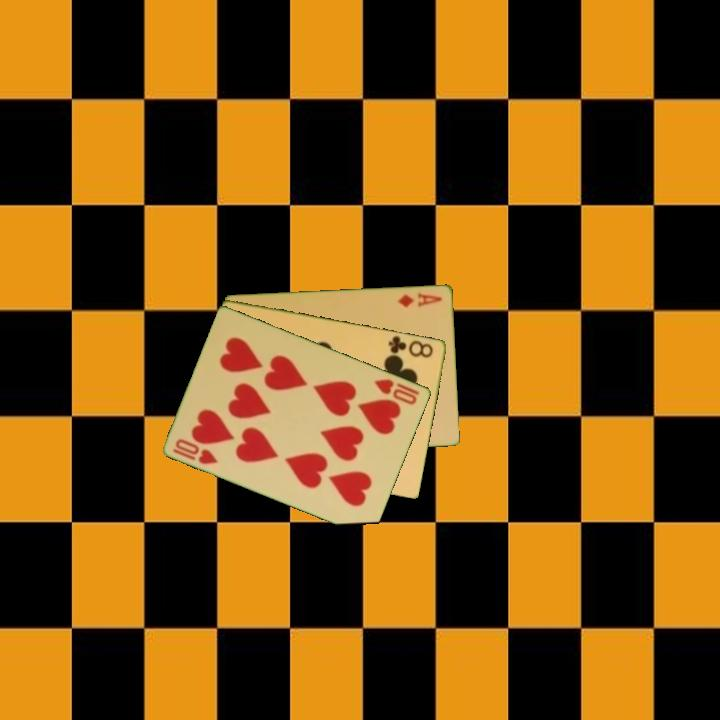10h: (170, 435, 222, 467), (371, 375, 420, 407)
8c: (385, 332, 436, 360)
Ad: (394, 289, 445, 310)
